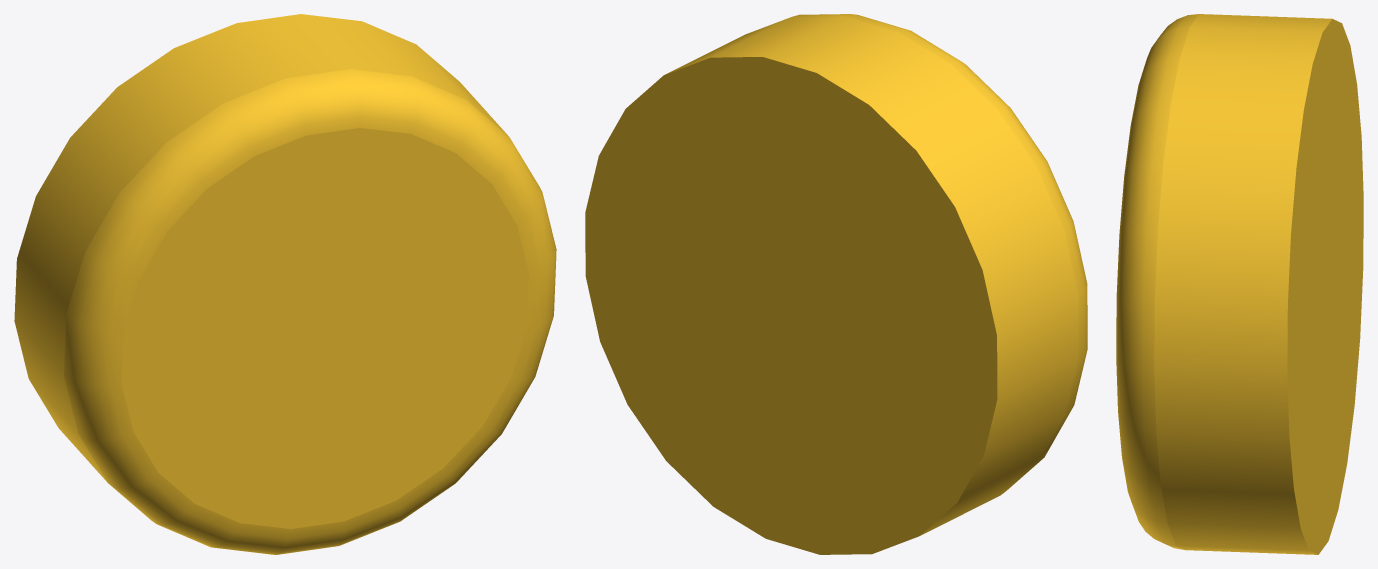
Rendered from original-62.obj.
The picture shows the model from 3 angles, left to right: view 1: azimuth 30°, elevation 25°; view 2: azimuth 150°, elevation 25°; view 3: azimuth 270°, elevation 25°; orthographic projection.
Visible parts, largest first — view 1: Component_5_54/Component_5/mesh11/mesh11-geometry#mesh11-geometr; view 2: Component_5_54/Component_5/mesh11/mesh11-geometry#mesh11-geometr; view 3: Component_5_54/Component_5/mesh11/mesh11-geometry#mesh11-geometr.
Part boxes in pixels (x1,y1,x2,y2): Component_5_54/Component_5/mesh11/mesh11-geometry#mesh11-geometr: (14, 14, 556, 554); Component_5_54/Component_5/mesh11/mesh11-geometry#mesh11-geometr: (585, 14, 1087, 554); Component_5_54/Component_5/mesh11/mesh11-geometry#mesh11-geometr: (1116, 14, 1363, 554).
Size of the model in its own units: 0.0579 by 0.0568 by 0.0262.
